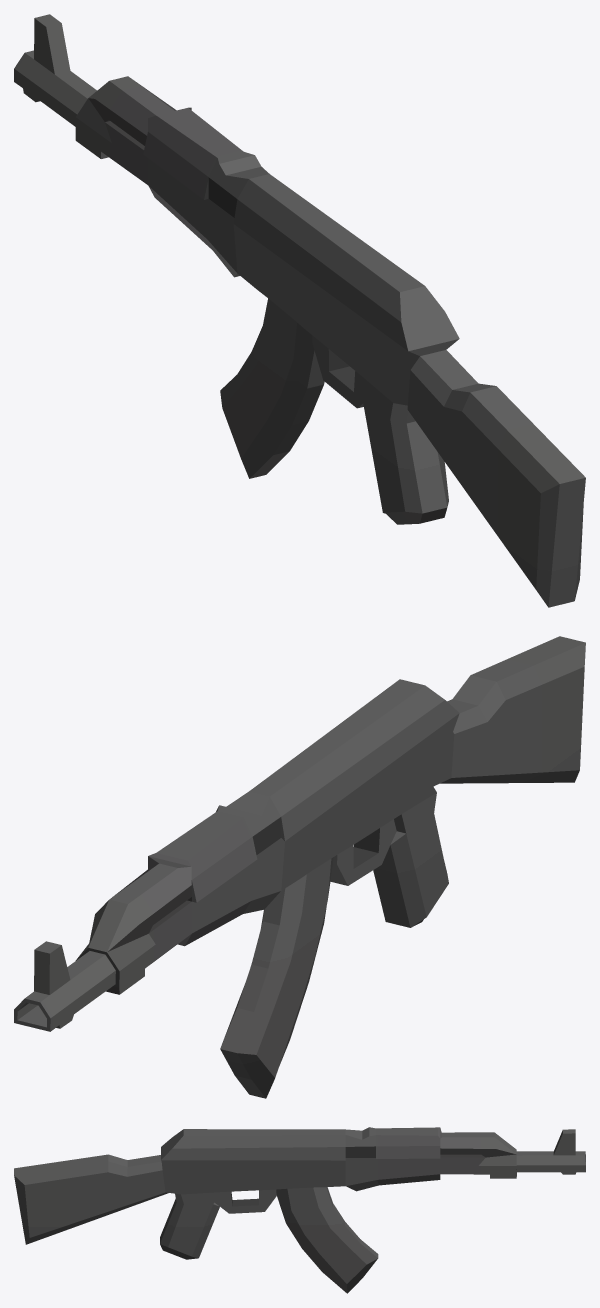
3 renders of one model, top to bottom at view 1: azimuth 30°, elevation 25°; view 2: azimuth 150°, elevation 25°; view 3: azimuth 270°, elevation 25°, orthographic. The views are drawn at different scales.
Parts seen in each view (by area): view 1: AK47; view 2: AK47; view 3: AK47.
Part boxes in pixels (x1,y1,x2,y2): AK47: (14, 14, 585, 607); AK47: (14, 636, 585, 1098); AK47: (14, 1127, 585, 1293).
Bounding box in the file's own units: 24.76 × 134 × 434.
